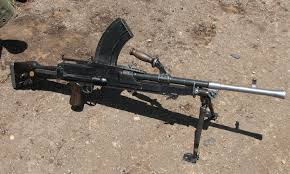Gun: (9, 21, 290, 151)
